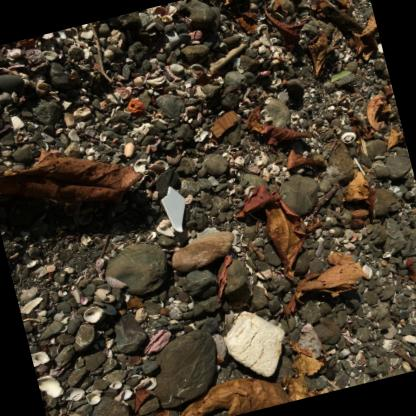Plastic: (161, 187, 185, 232), (352, 155, 365, 175), (340, 133, 355, 144)
Waste: (223, 311, 284, 377)
